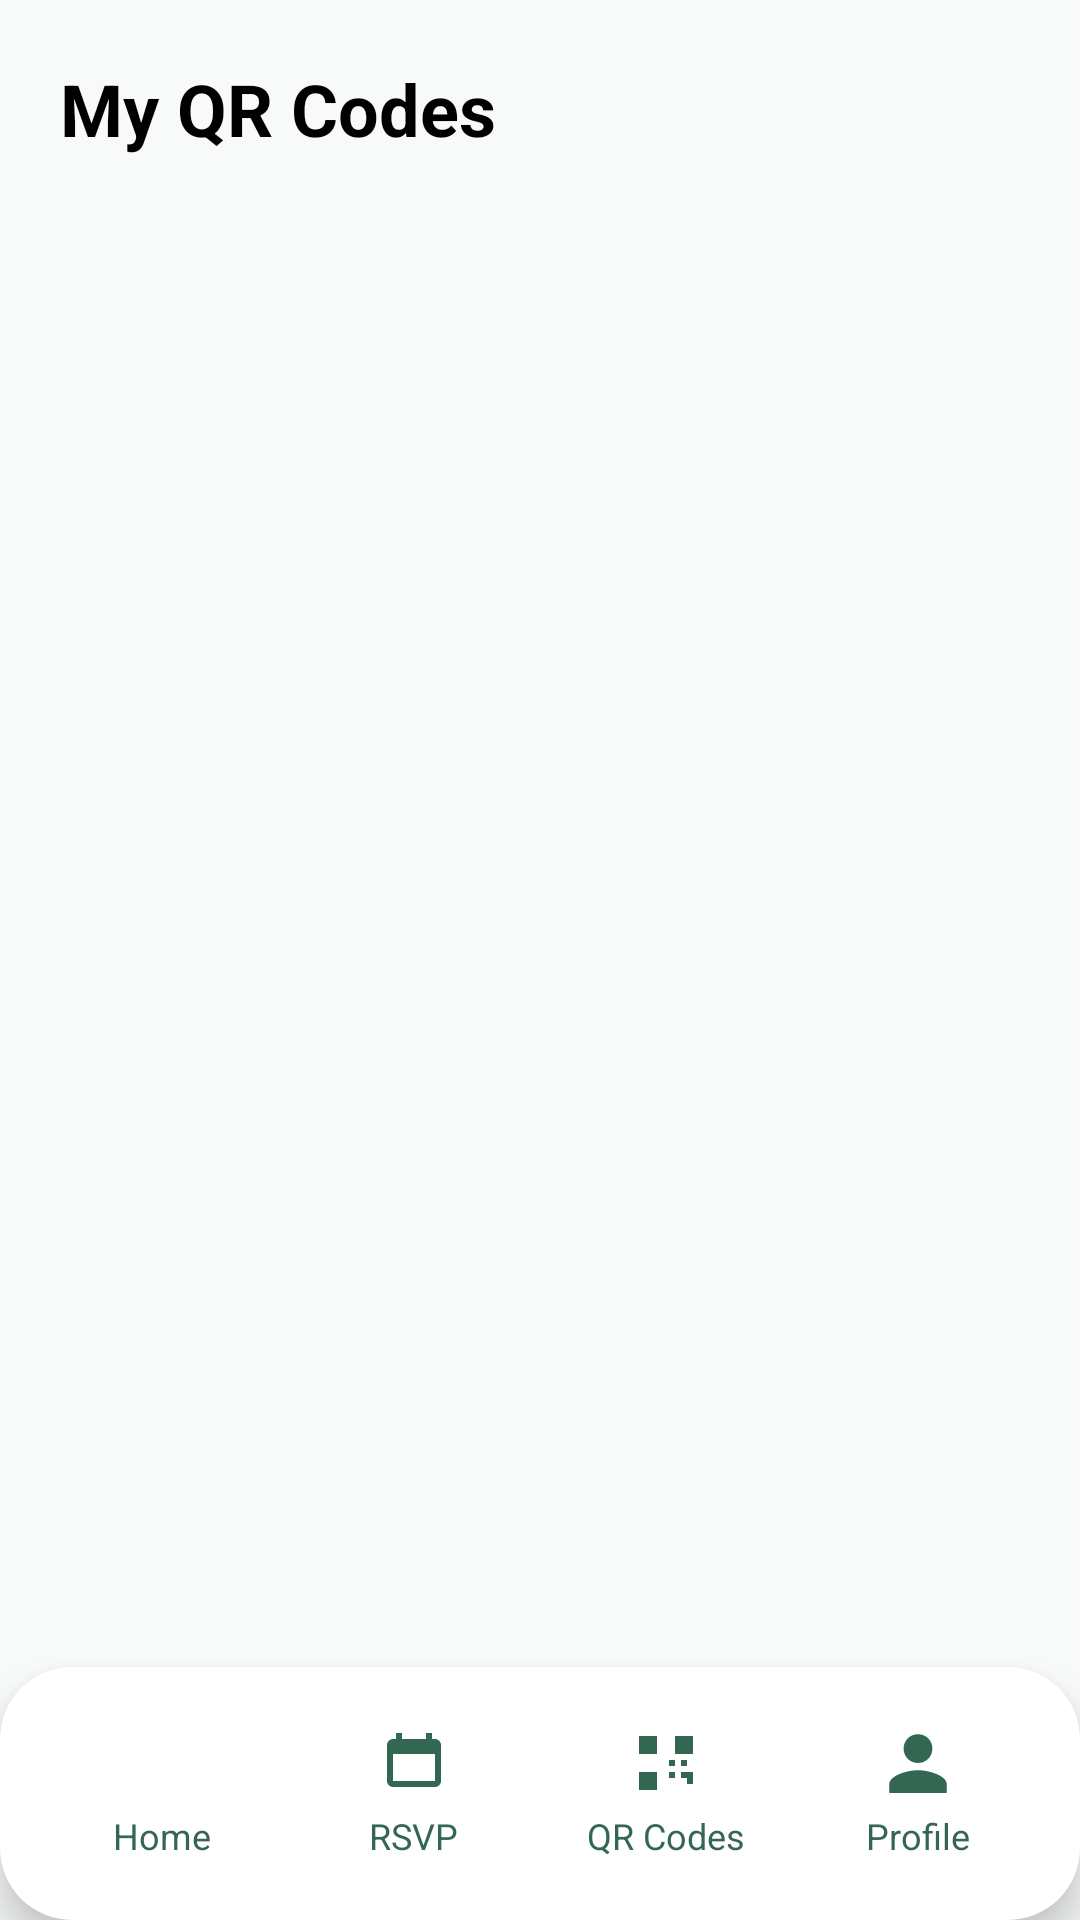

Icons on this 1080 × 1920 Android screen, each with the point to tap as (x=x, y=y):
calendar: (x=414, y=1760)
